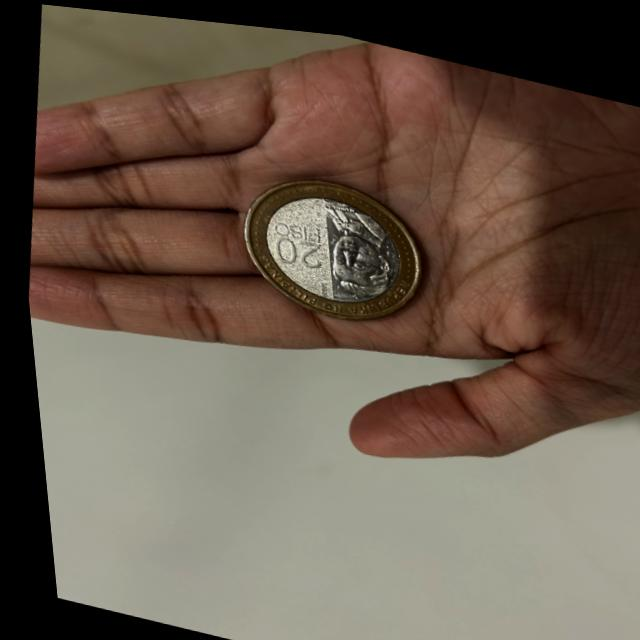20_New_Front: (254, 197, 339, 273)
